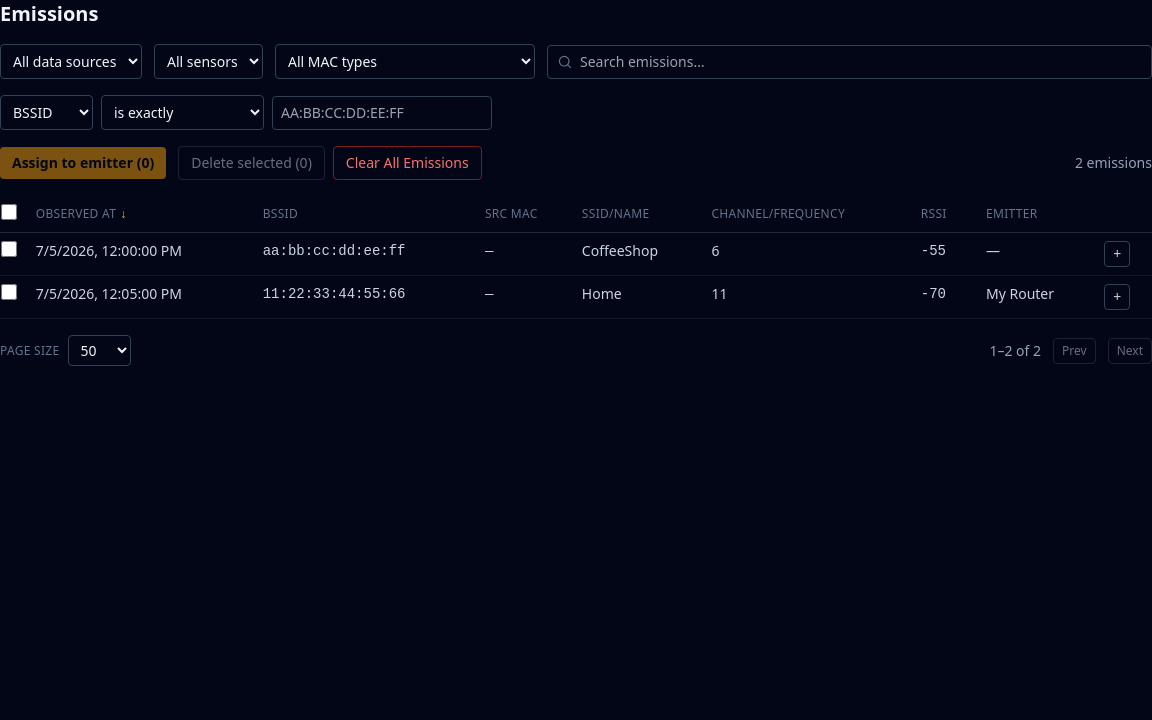
Scenario: the per-row "+" opens the assign modal pre-filled with that emission's bssid identity rule
Expected: the row with test id "emission-row-e1" is shown, [0, 232, 1151, 276]
Click the button named "Quick-assign emission e1 to emitter" at (1117, 254), box [1104, 241, 1130, 267]
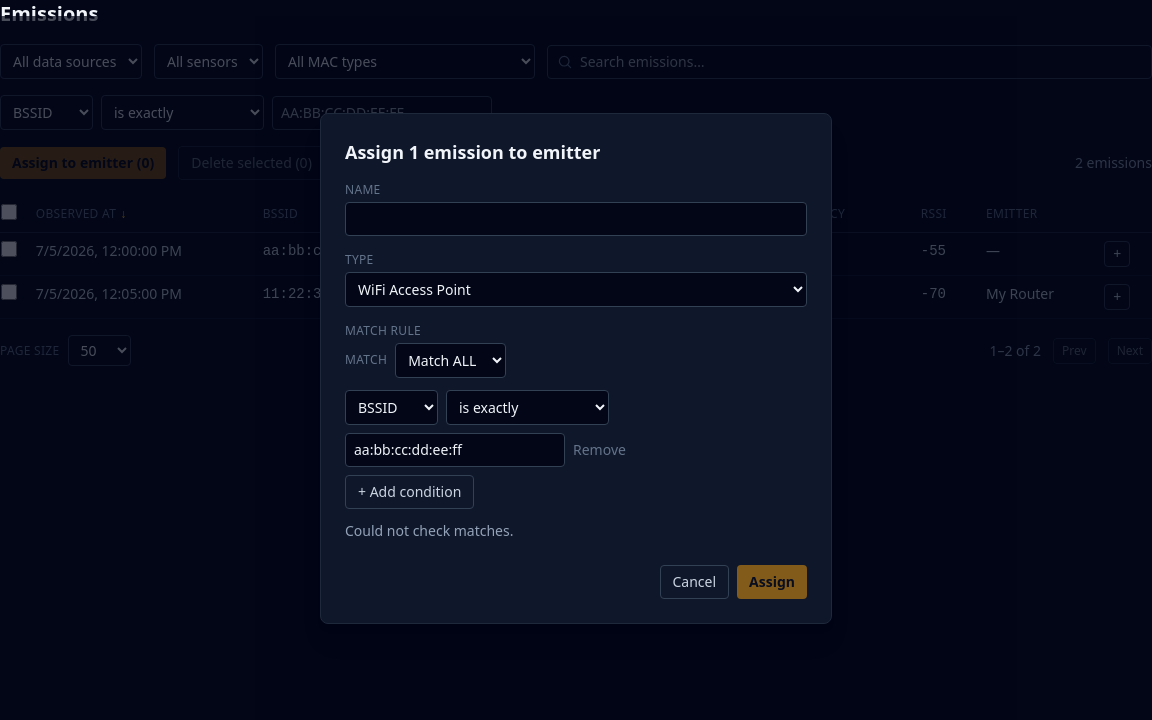
Expected: the 1st dropdown named "field" shows "BSSID", [345, 390, 438, 424]
Expected: the 2nd dropdown named "operator" shows "is exactly", [446, 390, 609, 424]
Expected: the field named "value" holds "aa:bb:cc:dd:ee:ff", [345, 432, 565, 466]
